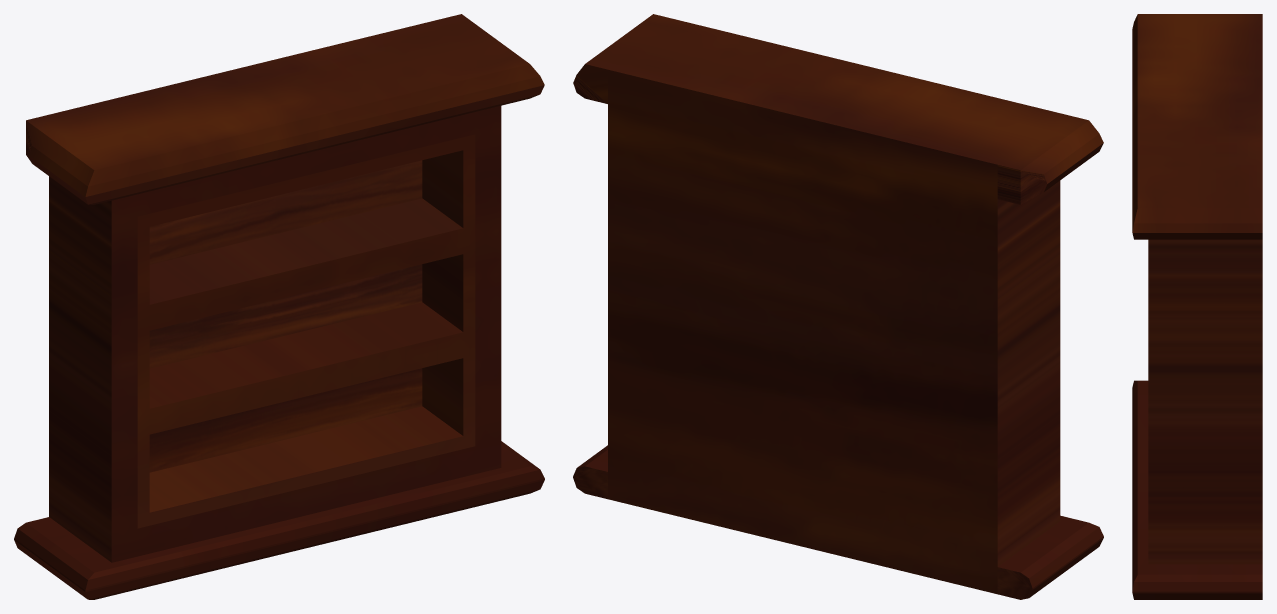
Rendered from single-shelf.glb.
The picture shows the model from 3 angles, left to right: view 1: azimuth 30°, elevation 25°; view 2: azimuth 150°, elevation 25°; view 3: azimuth 270°, elevation 25°; orthographic projection. The views are drawn at different scales.
Visible parts, largest first — view 1: Shelf01-col.001; view 2: Shelf01-col.001; view 3: Shelf01-col.001.
Part boxes in pixels (x1,y1,x2,y2): Shelf01-col.001: (14, 14, 544, 599); Shelf01-col.001: (573, 14, 1103, 599); Shelf01-col.001: (1132, 14, 1262, 599).
Bounding box in the file's own units: 4 × 3.57 × 1.08.
1 material, 1 textured.
